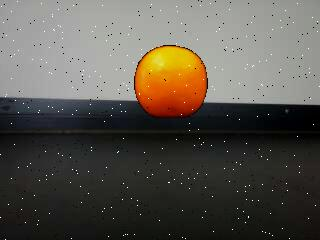Orange: (134, 45, 208, 118)
